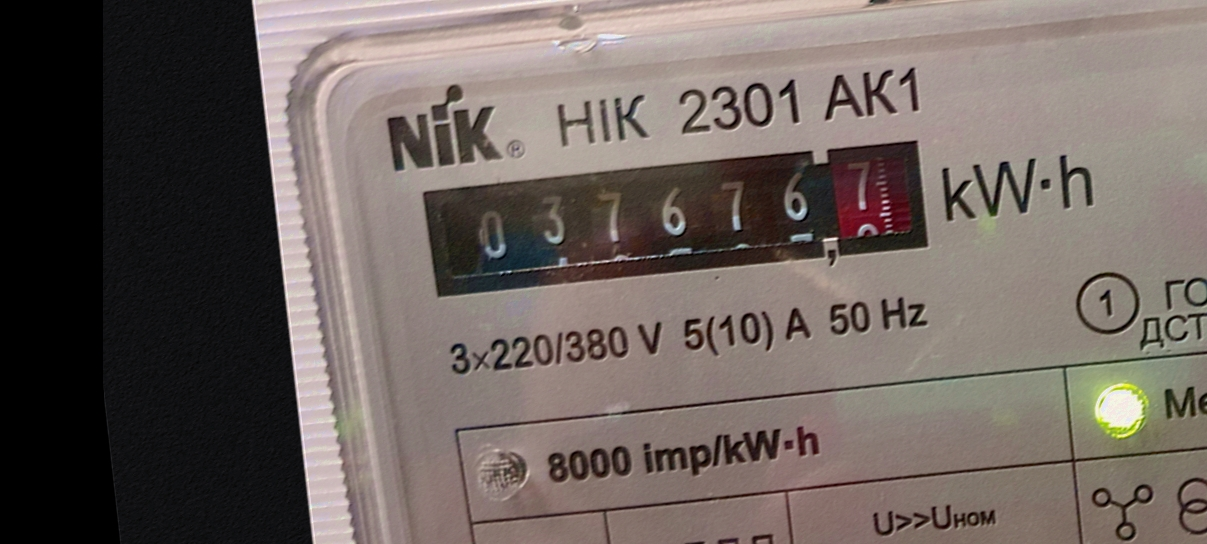0: (475, 204, 514, 263)
3: (537, 190, 570, 249)
6: (655, 181, 693, 239), (778, 167, 814, 225)
7: (717, 176, 754, 237), (595, 186, 631, 246), (845, 156, 879, 215)
screen: (407, 118, 949, 322)
